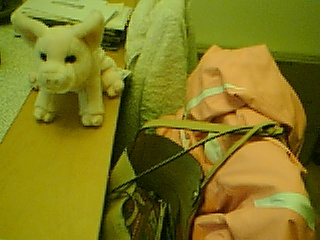piggy: (11, 9, 126, 130)
